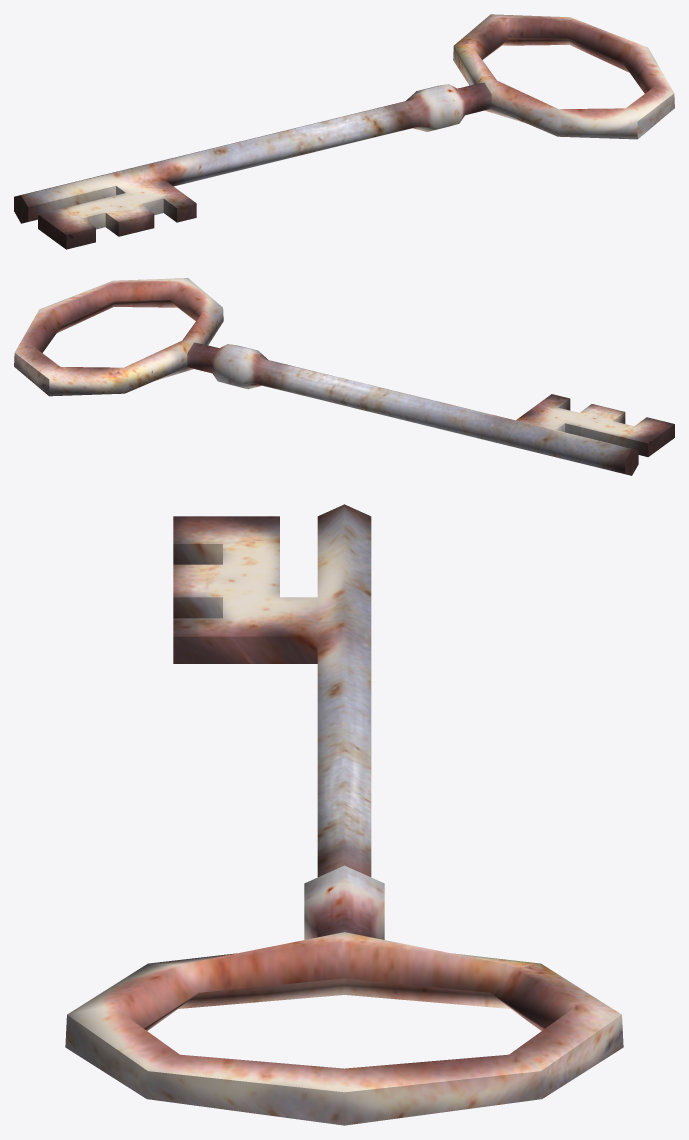
The model's file is Llave.FBX.
3 renders of one model, top to bottom at view 1: azimuth 30°, elevation 25°; view 2: azimuth 150°, elevation 25°; view 3: azimuth 270°, elevation 25°, orthographic. The views are drawn at different scales.
Parts seen in each view (by area): view 1: Llave; view 2: Llave; view 3: Llave.
Part boxes in pixels (box(x1,y1,x2,y2)): Llave: box(14, 14, 674, 249); Llave: box(14, 278, 674, 475); Llave: box(65, 504, 623, 1125).
Size of the model in its own units: 247 by 16.11 by 101.
